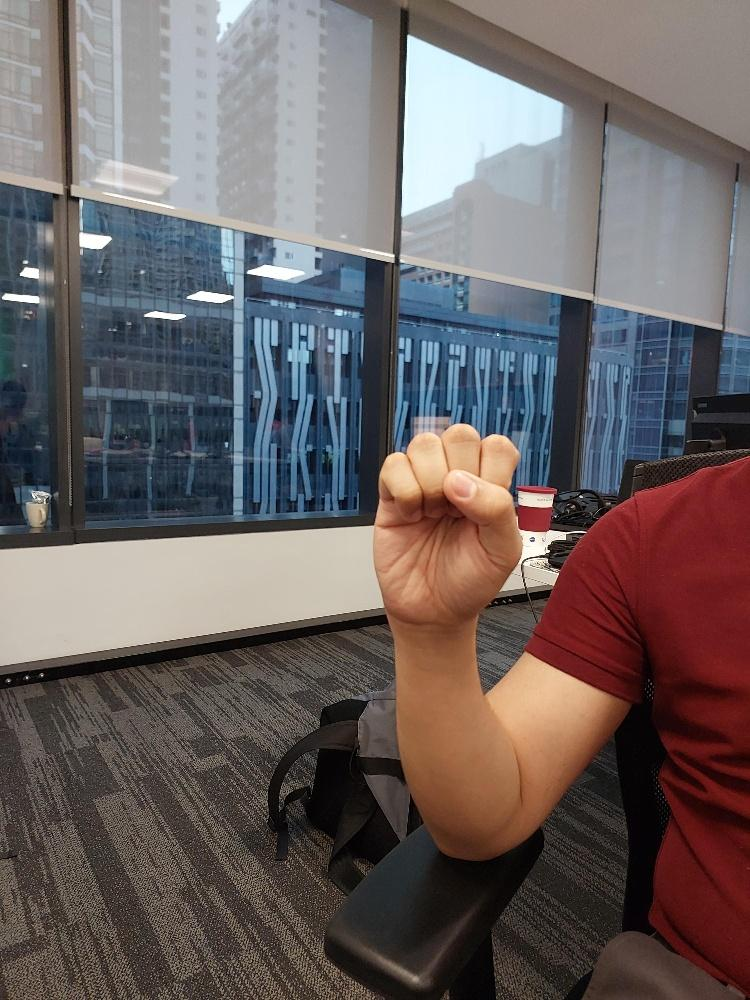s: (369, 420, 528, 629)
